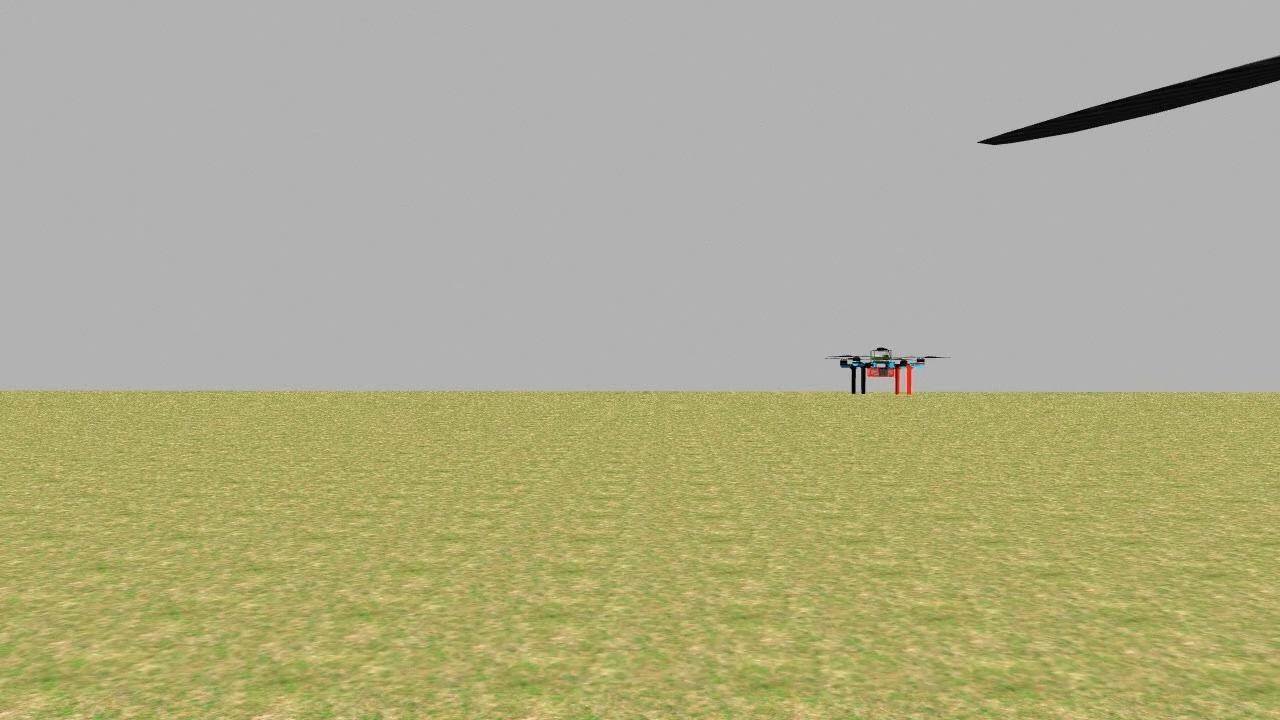UAV: (832, 334, 939, 404)
